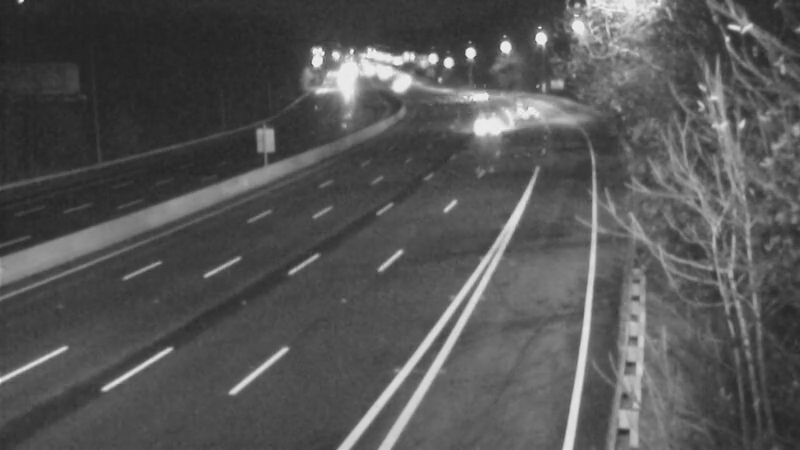vehicle: (452, 71, 502, 121), (501, 94, 551, 144), (461, 98, 511, 148)
